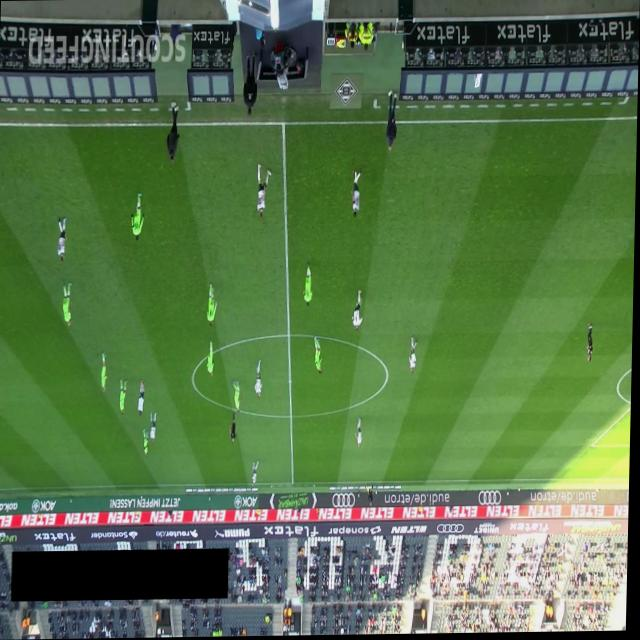goalkeeper: (588, 324, 594, 363)
player: (256, 163, 273, 218), (131, 191, 145, 241), (56, 216, 68, 261), (350, 170, 361, 218), (352, 289, 364, 332), (207, 282, 218, 328), (62, 281, 73, 326), (304, 261, 314, 307), (313, 337, 324, 375), (255, 359, 264, 399), (409, 336, 418, 375), (207, 339, 216, 377), (233, 380, 243, 414), (138, 379, 146, 417), (120, 378, 128, 415), (102, 351, 109, 393), (355, 418, 364, 449), (151, 411, 158, 445), (252, 459, 261, 484), (143, 429, 150, 457)
referee: (231, 411, 238, 443), (367, 483, 375, 507)
